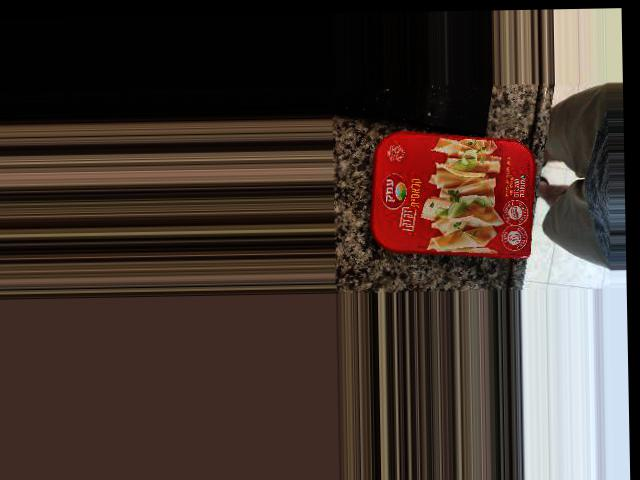cheese: (402, 126, 565, 245)
